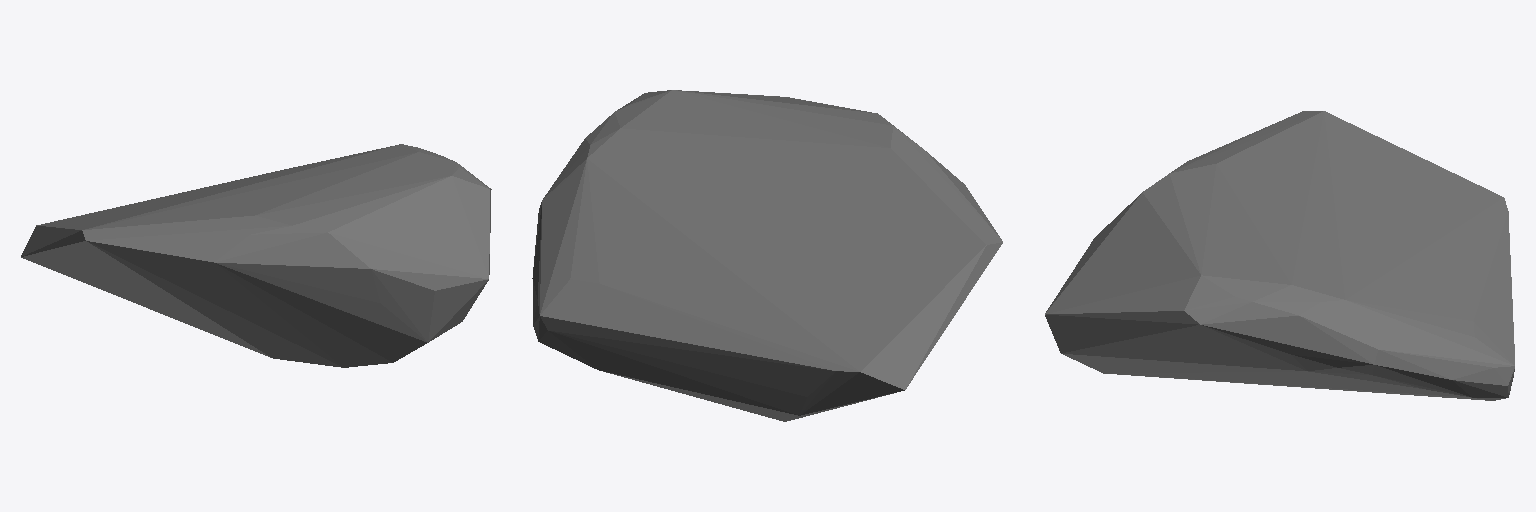
URDF robot description (45_333):
<?xml version="1.0"?>
<robot name="45_333">
  <link name="link">
    <contact>
      <lateral_friction value="0.6"/>
    </contact>
    <inertial>
      <origin xyz="0.0036054701853319424 0.003993840315494317 0.0006574555081188407" rpy="0 0 0"/>
      <mass value = "0.25542500382162886"/>
      <inertia ixx="0.0001044312852410792" ixy="-2.093943104920912e-05" ixz="3.879609126787241e-06" iyy="0.00010596721411672444" iyz="-1.237769902989106e-05" izz="0.00017743728666272526" />
    </inertial>
    <visual name="visual">
      <geometry>
        <mesh filename="45_333.obj"/>
      </geometry>
      <material name="material">
        <color rgba="0.49107468838419227 0.49107468838419227 0.49107468838419227 1.0"/>
      </material>
    </visual>
    <collision name="collision">
      <geometry>
        <mesh filename="45_333.obj"/>
      </geometry>
    </collision>
  </link>
</robot>

--- Render facts (derived) ---
The picture shows the robot from 3 angles, left to right: view 1: azimuth 30°, elevation 25°; view 2: azimuth 150°, elevation 25°; view 3: azimuth 270°, elevation 25°; orthographic projection.
Model 45_333 with 1 links and 0 joints (none), rooted at link, posed every joint at zero.
Links seen in each view (by area): view 1: link; view 2: link; view 3: link.
Boxes of the visible links, x1,y1,x2,y2 form: link: (21,144,491,367); link: (532,90,1002,421); link: (1045,111,1514,400).
Bounding box of the posed robot: 0.0868 × 0.0831 × 0.035 m (x, y, z).
1 mesh visuals loaded from 1 distinct referenced files (1 OBJ).
